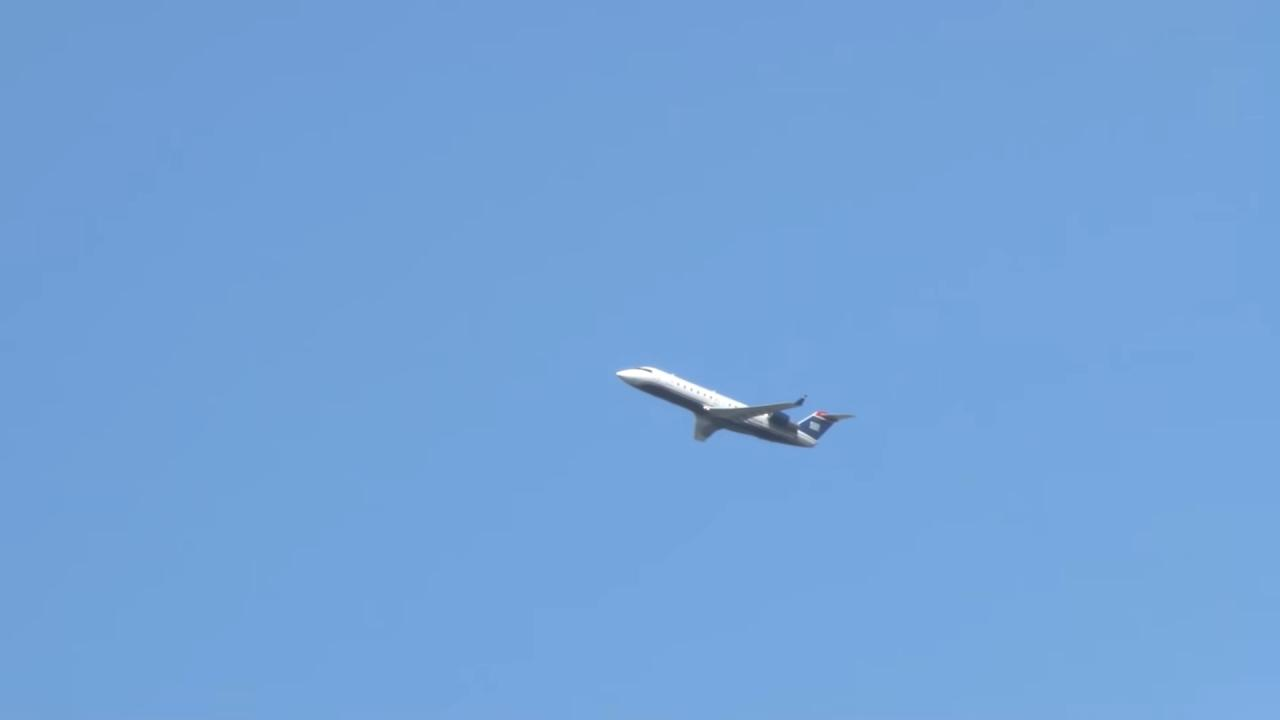Airplane: (592, 343, 867, 484)
